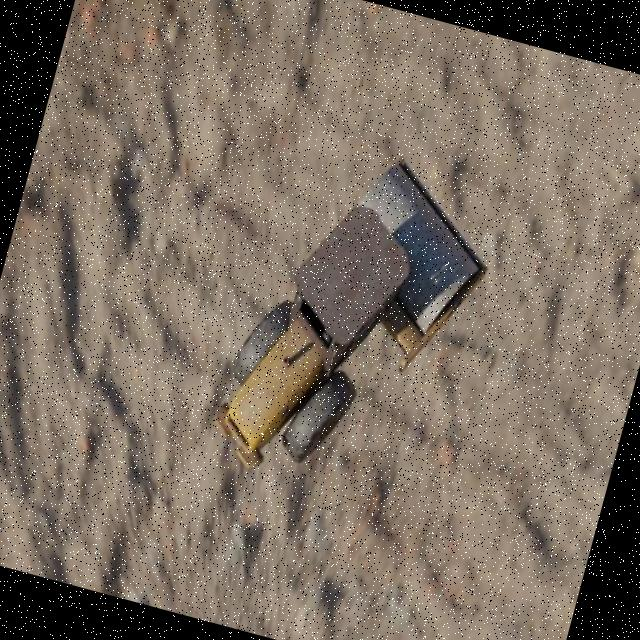Roller: (204, 125, 510, 515)
